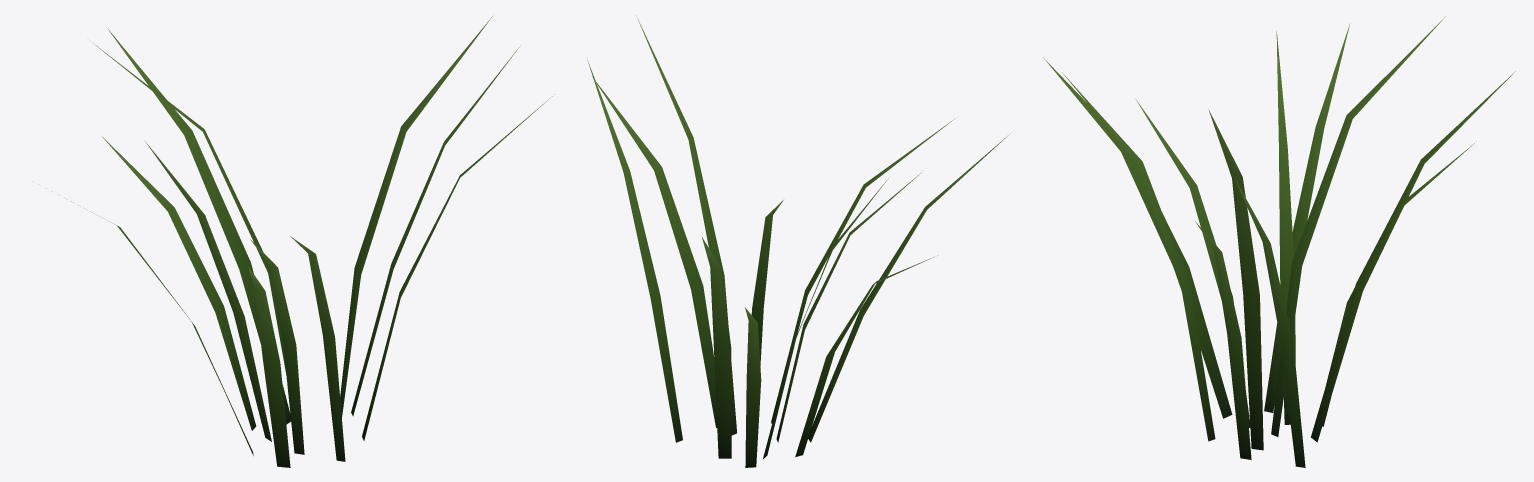
File: b612_veg_VL_Grass_WetBank_A_1.glb
3 views of the same model, side by side, from view 1: azimuth 30°, elevation 25°; view 2: azimuth 150°, elevation 25°; view 3: azimuth 270°, elevation 25° (orthographic). The views are drawn at different scales.
Parts seen in each view (by area): view 1: Grass_WetBank_A_LOD1; view 2: Grass_WetBank_A_LOD1; view 3: Grass_WetBank_A_LOD1.
Part boxes in pixels (left/top/right/bottom): Grass_WetBank_A_LOD1: left=52, top=16, right=554, bottom=467; Grass_WetBank_A_LOD1: left=587, top=15, right=1009, bottom=467; Grass_WetBank_A_LOD1: left=1043, top=16, right=1515, bottom=467.
Bounding box in the file's own units: 0.3987 × 0.3381 × 0.3611.
